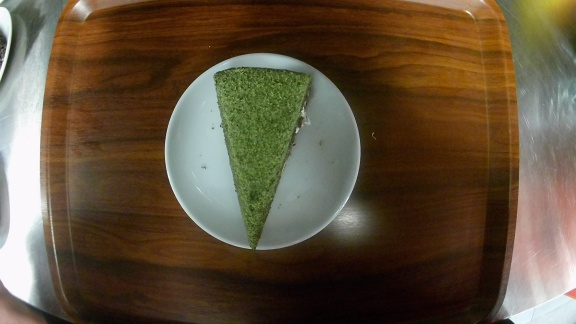fistiklipasta: (164, 52, 362, 251)
